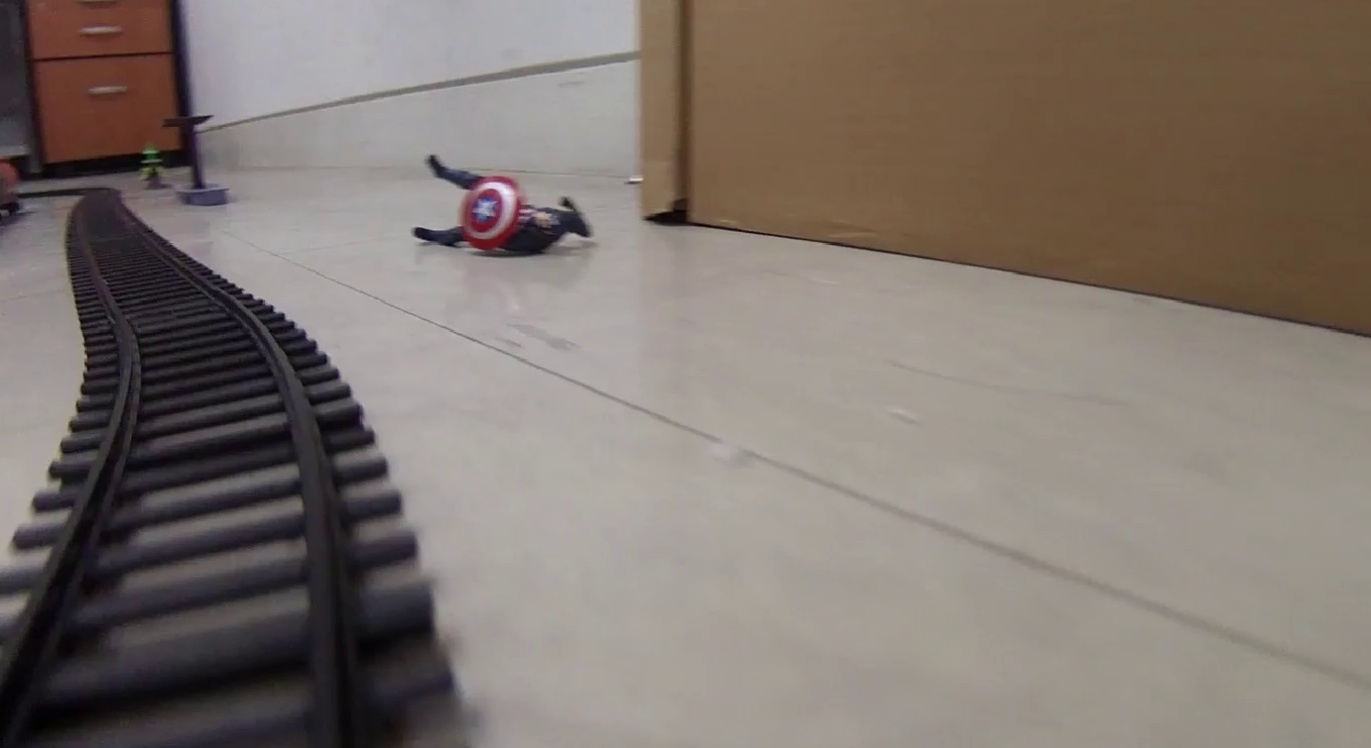people: (412, 155, 594, 259)
